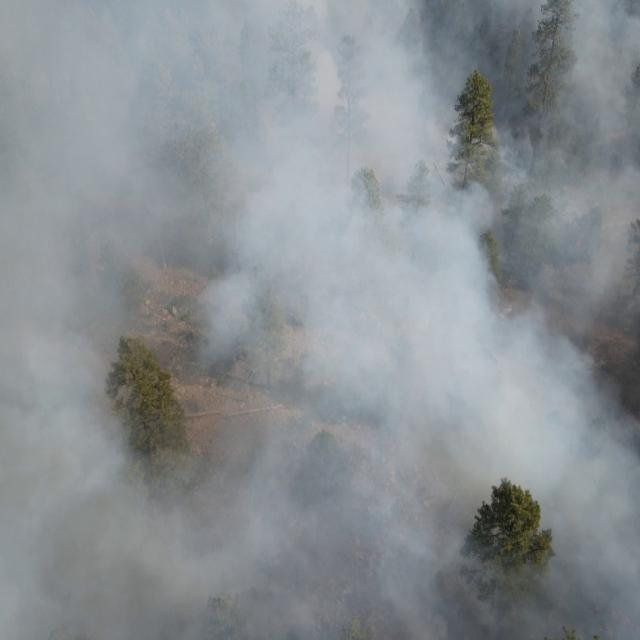fire: (602, 128, 634, 144)
smoke: (107, 0, 640, 338), (180, 337, 463, 640), (0, 0, 107, 640), (540, 339, 640, 640), (107, 394, 180, 640), (463, 339, 540, 481), (463, 547, 540, 640), (160, 338, 180, 374), (463, 481, 477, 531), (108, 334, 120, 370), (478, 481, 492, 507), (524, 488, 540, 504), (141, 338, 159, 351), (514, 482, 539, 488), (492, 481, 502, 487)
